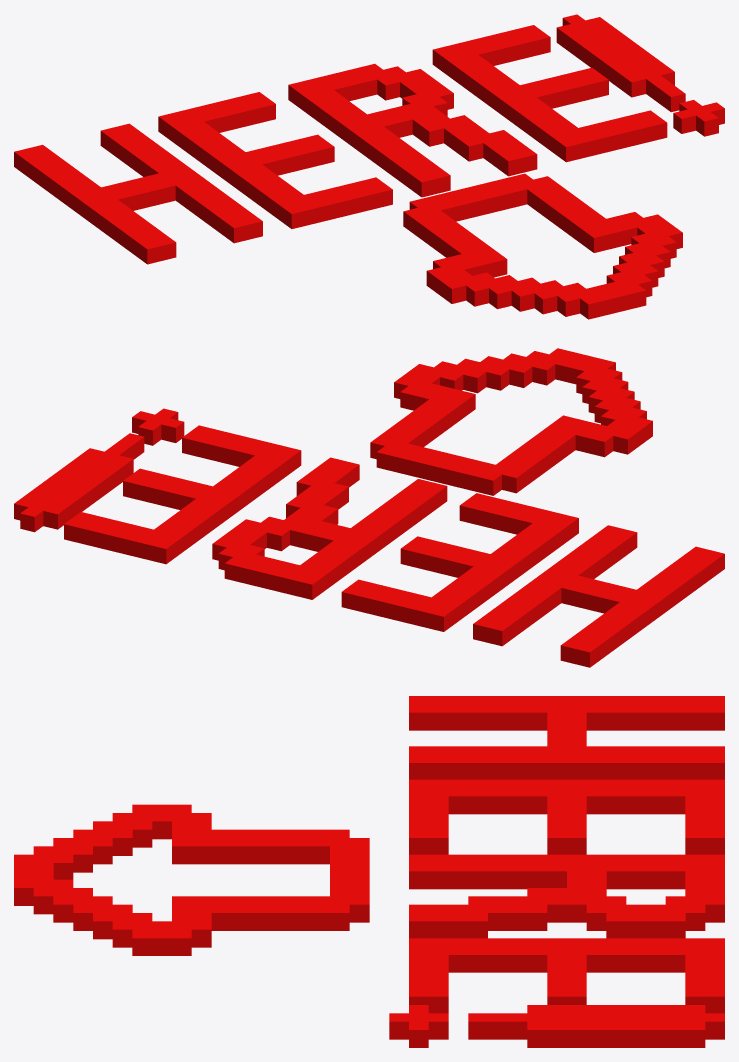
Rendered from here.obj.
The picture shows the model from 3 angles, top to bottom: view 1: azimuth 30°, elevation 25°; view 2: azimuth 150°, elevation 25°; view 3: azimuth 270°, elevation 25°; orthographic projection. The views are drawn at different scales.
Size of the model in its own units: 40 by 1 by 36.
